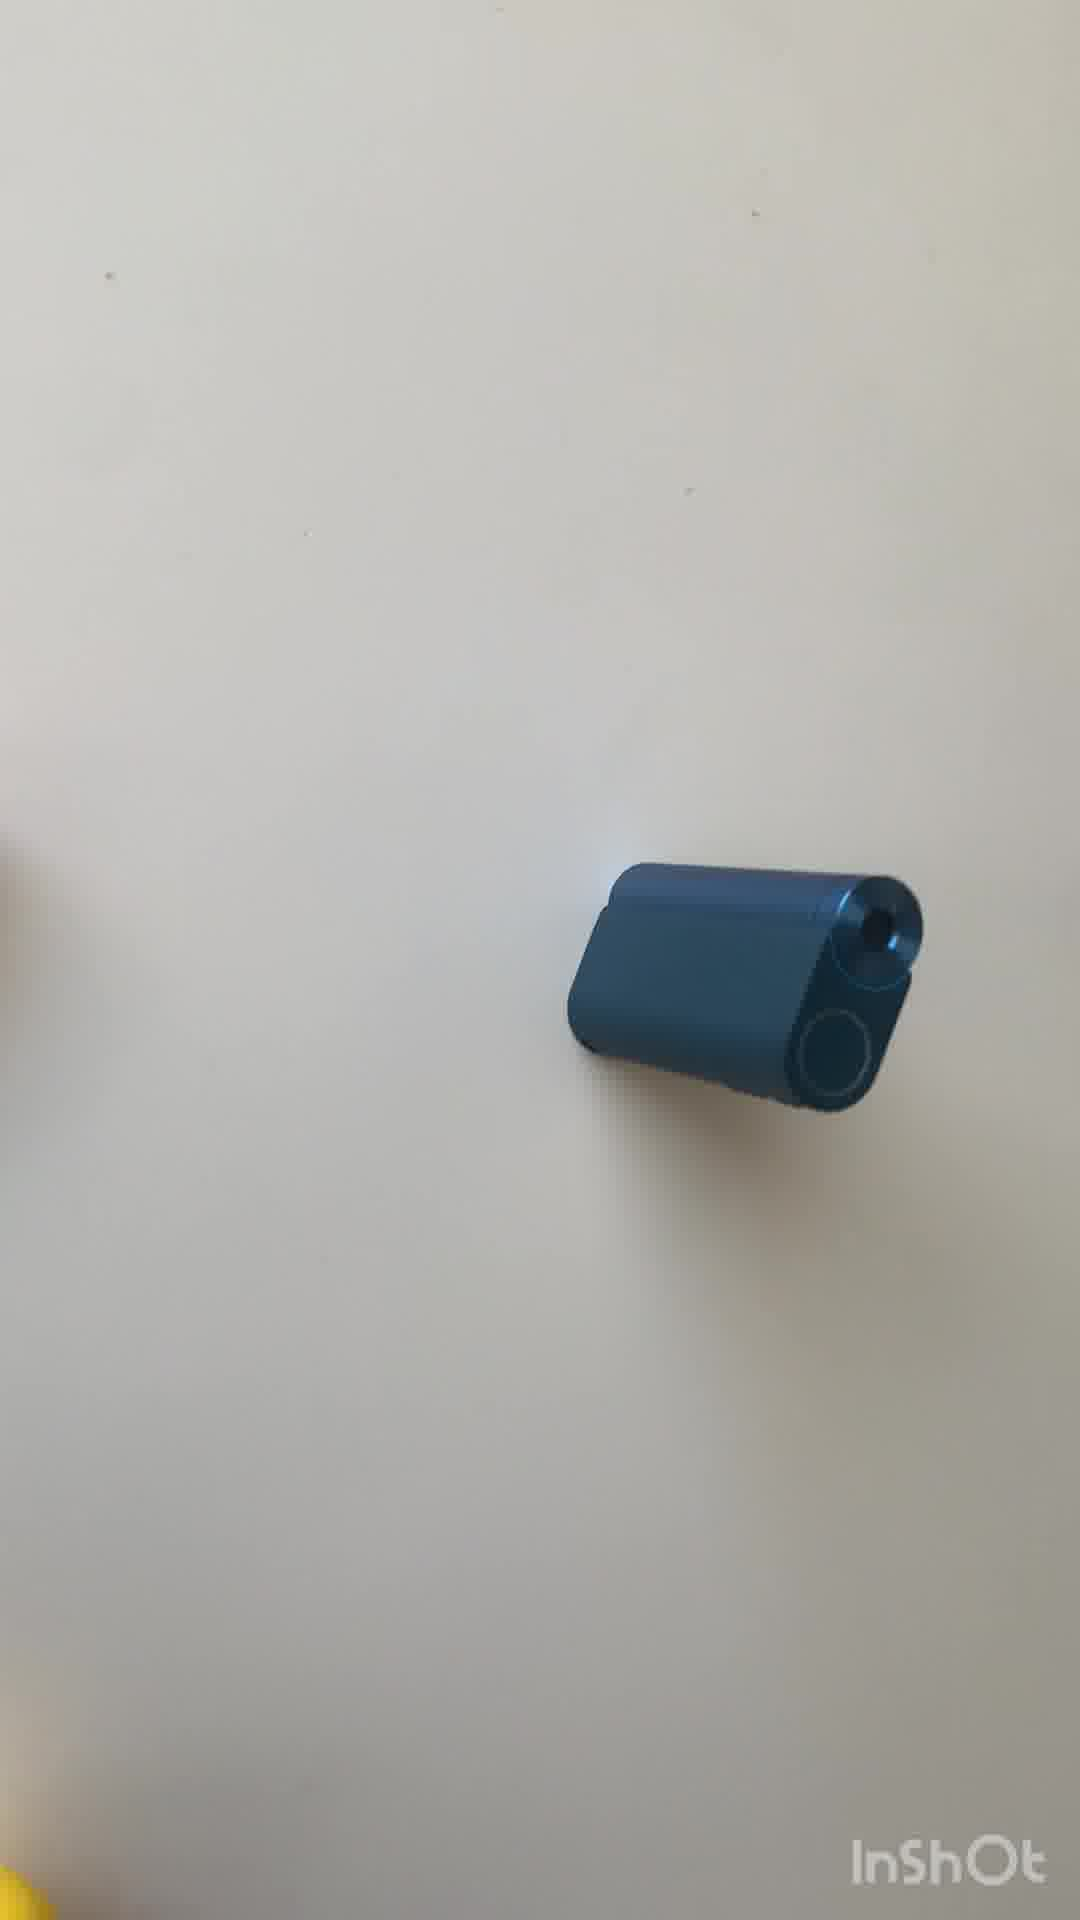glo: (554, 857, 928, 1126)
